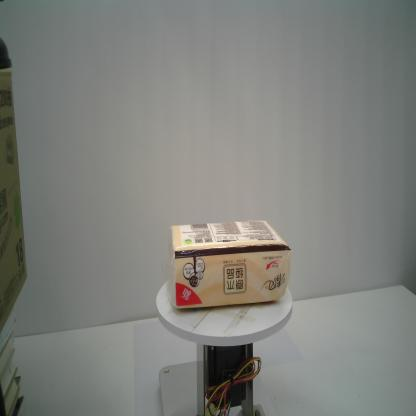Tissue: (163, 219, 292, 312)
